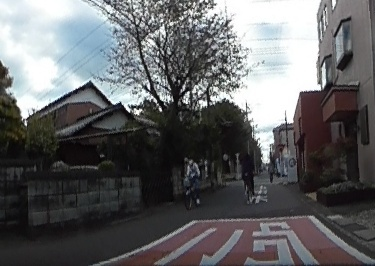person: (182, 155, 202, 209), (239, 150, 256, 198)
